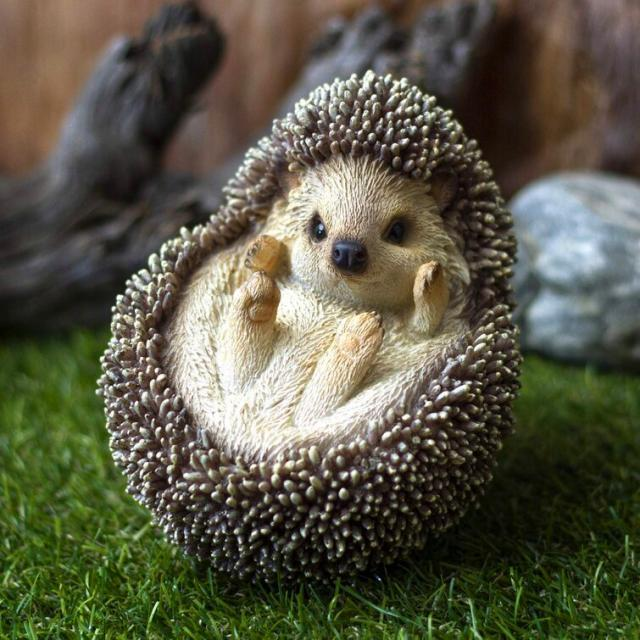hedgehog: (98, 72, 520, 579)
